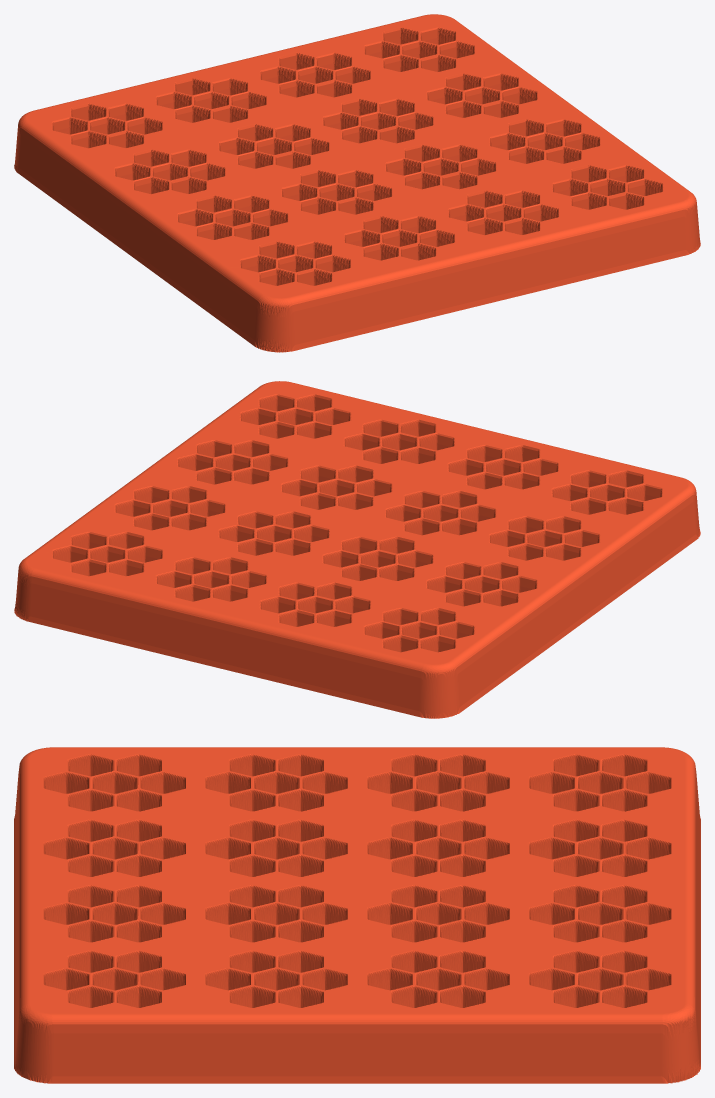
File: mold.glb
3 renders of one model, top to bottom at view 1: azimuth 30°, elevation 25°; view 2: azimuth 150°, elevation 25°; view 3: azimuth 270°, elevation 25°, orthographic. The views are drawn at different scales.
Visible parts, largest first — view 1: geometry_0; view 2: geometry_0; view 3: geometry_0.
Part boxes in pixels (left/top/right/bottom): geometry_0: left=14, top=14, right=700, bottom=352; geometry_0: left=14, top=381, right=700, bottom=718; geometry_0: left=14, top=747, right=700, bottom=1083.
Size of the model in its own units: 0.1507 by 0.0159 by 0.1569.
